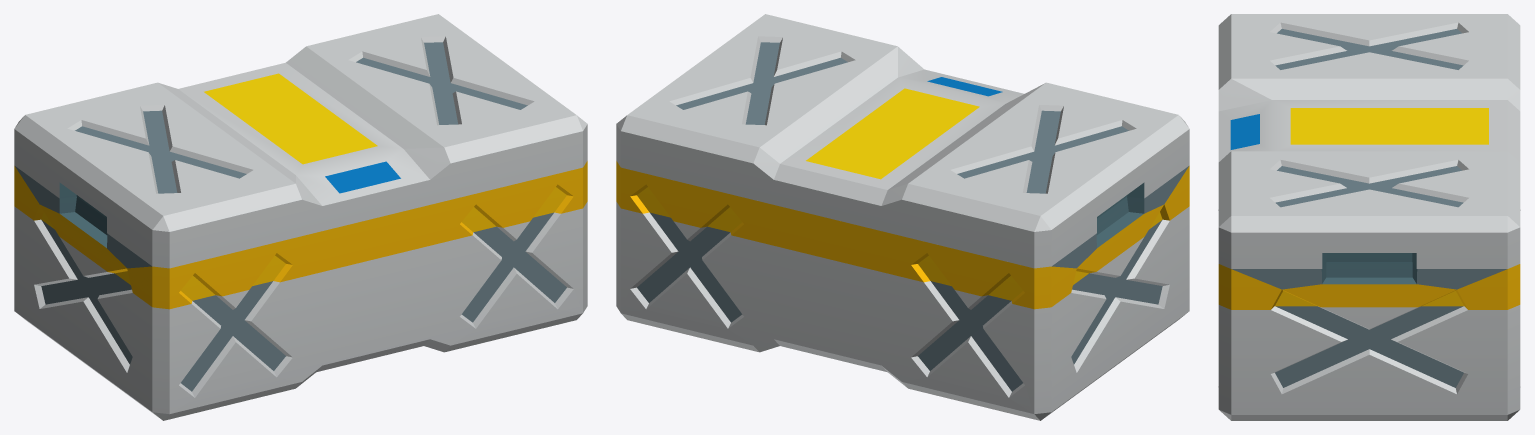
Rendered from Crate_010.glb.
3 renders of one model, left to right at view 1: azimuth 30°, elevation 25°; view 2: azimuth 150°, elevation 25°; view 3: azimuth 270°, elevation 25°, orthographic.
Parts seen in each view (by area): view 1: Crate_010; view 2: Crate_010; view 3: Crate_010.
Boxes of the visible parts, box(x1,y1,x2,y2) form: Crate_010: box(14, 14, 587, 420); Crate_010: box(616, 14, 1189, 420); Crate_010: box(1218, 14, 1520, 420).
Size of the model in its own units: 1 by 0.45 by 0.6005.
2 materials, 2 textured.
